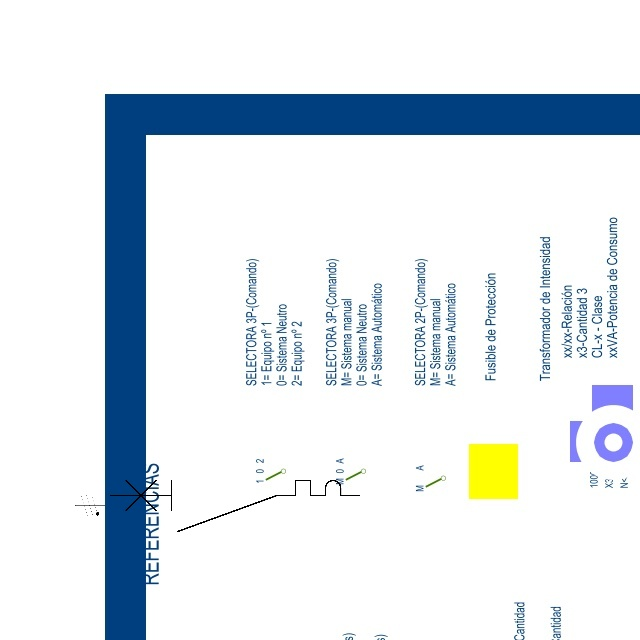interruptor_termomagnetico: (104, 474, 366, 538)
